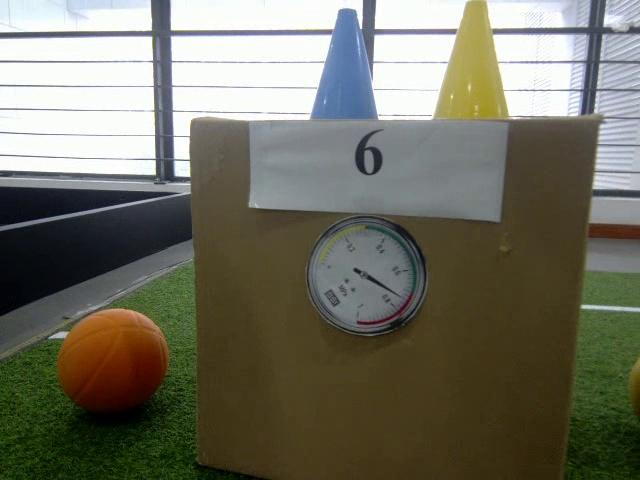6: (351, 126, 389, 177)
Dashboard: (307, 212, 428, 342)
blue_barrel: (307, 8, 380, 120)
orange_ball: (56, 306, 169, 413)
yellow_barrel: (428, 0, 513, 123)
